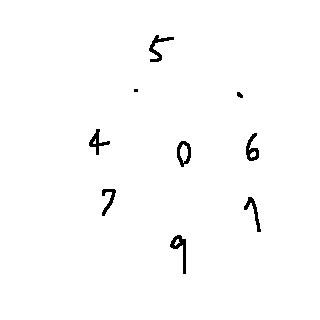.: (232, 80, 250, 105), (126, 83, 143, 101)
0: (167, 129, 200, 178)
1: (237, 190, 280, 239)
4: (85, 125, 113, 161)
5: (141, 30, 182, 70)
6: (241, 131, 270, 173)
7: (96, 186, 123, 221)
9: (165, 228, 194, 278)
